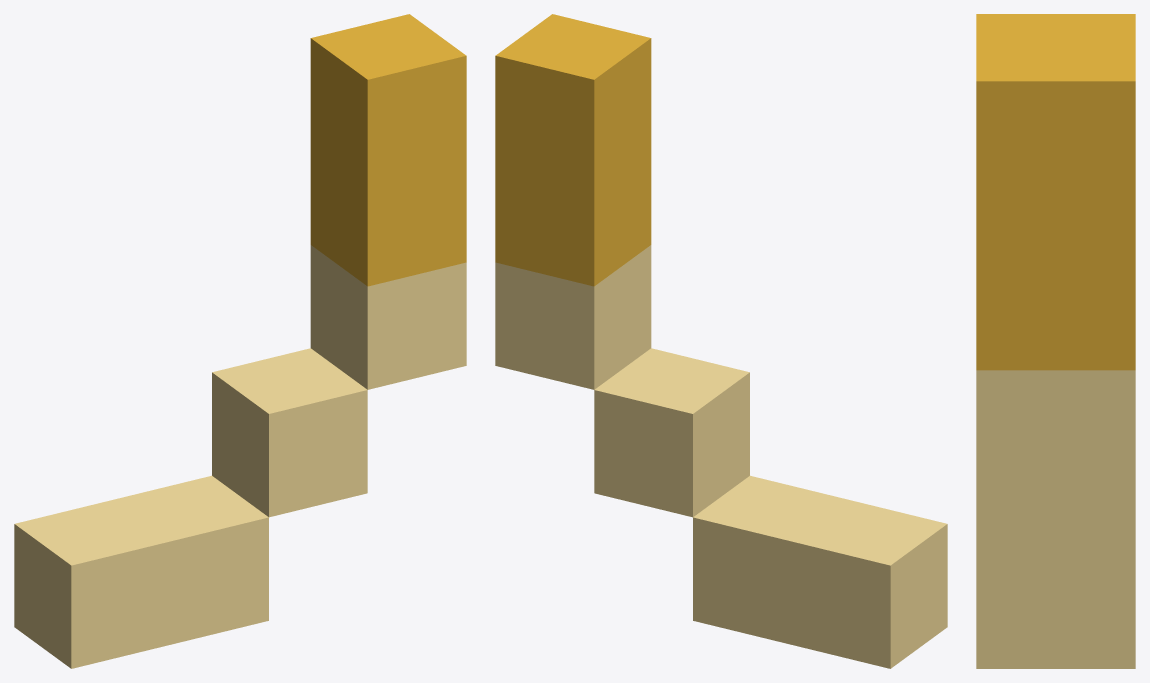
The model's file is woman-14-right_hand_attack.obj.
3 views of the same model, side by side, from view 1: azimuth 30°, elevation 25°; view 2: azimuth 150°, elevation 25°; view 3: azimuth 270°, elevation 25° (orthographic). The views are drawn at different scales.
Visible parts, largest first — view 1: right_hand_attack; view 2: right_hand_attack; view 3: right_hand_attack.
Boxes of the visible parts, bbox=[...] form: right_hand_attack: bbox=[14, 14, 466, 668]; right_hand_attack: bbox=[495, 14, 947, 668]; right_hand_attack: bbox=[976, 14, 1135, 668].
Bounding box in the file's own units: 0.4 × 0.5 × 0.1.
Materials: 1 (1 with a texture image).
